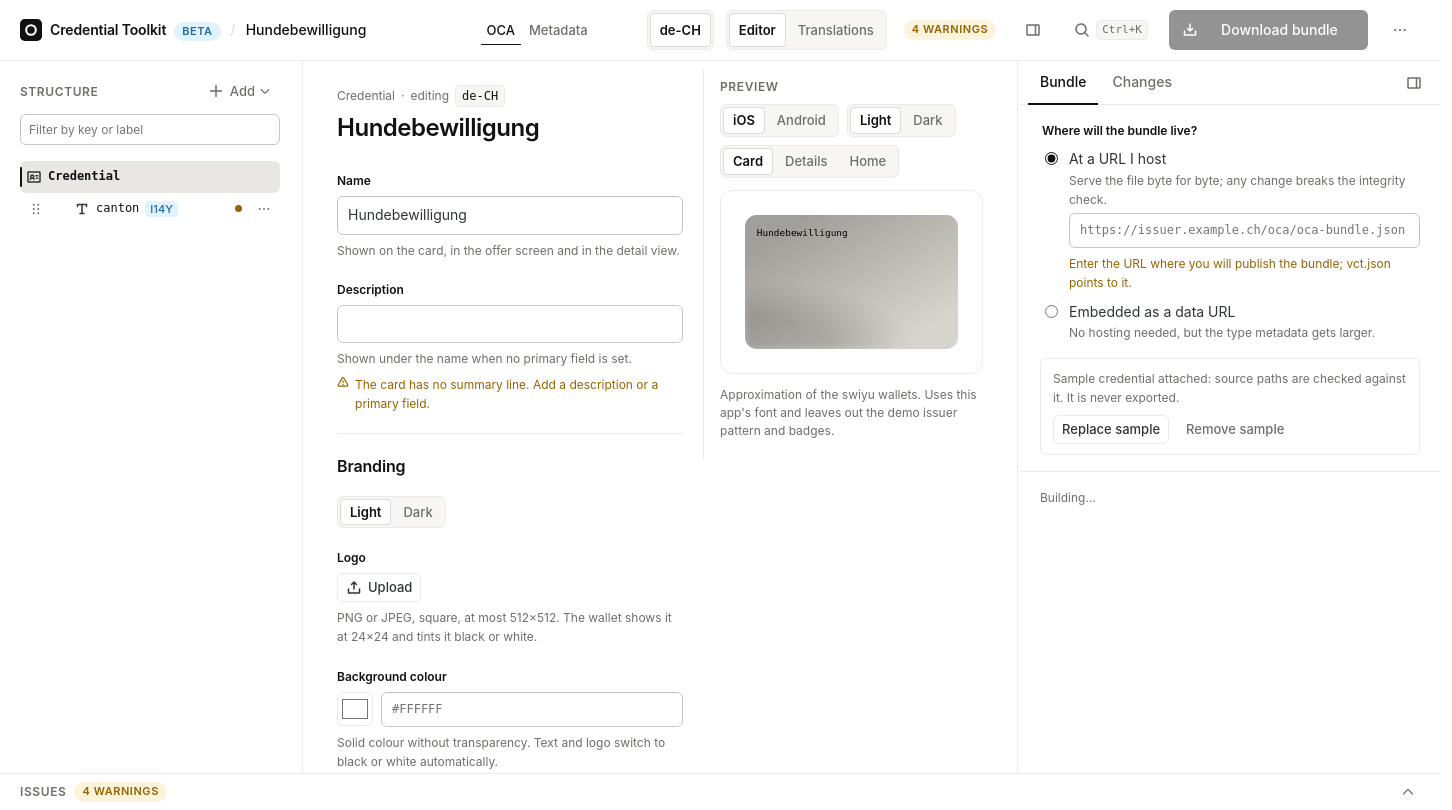
Scenario: in the app › lists Save and Open after a separator, before New project, with their keys
Step 1. Click the button named "More actions" → (1400, 30), box [1380,10,1420,50]
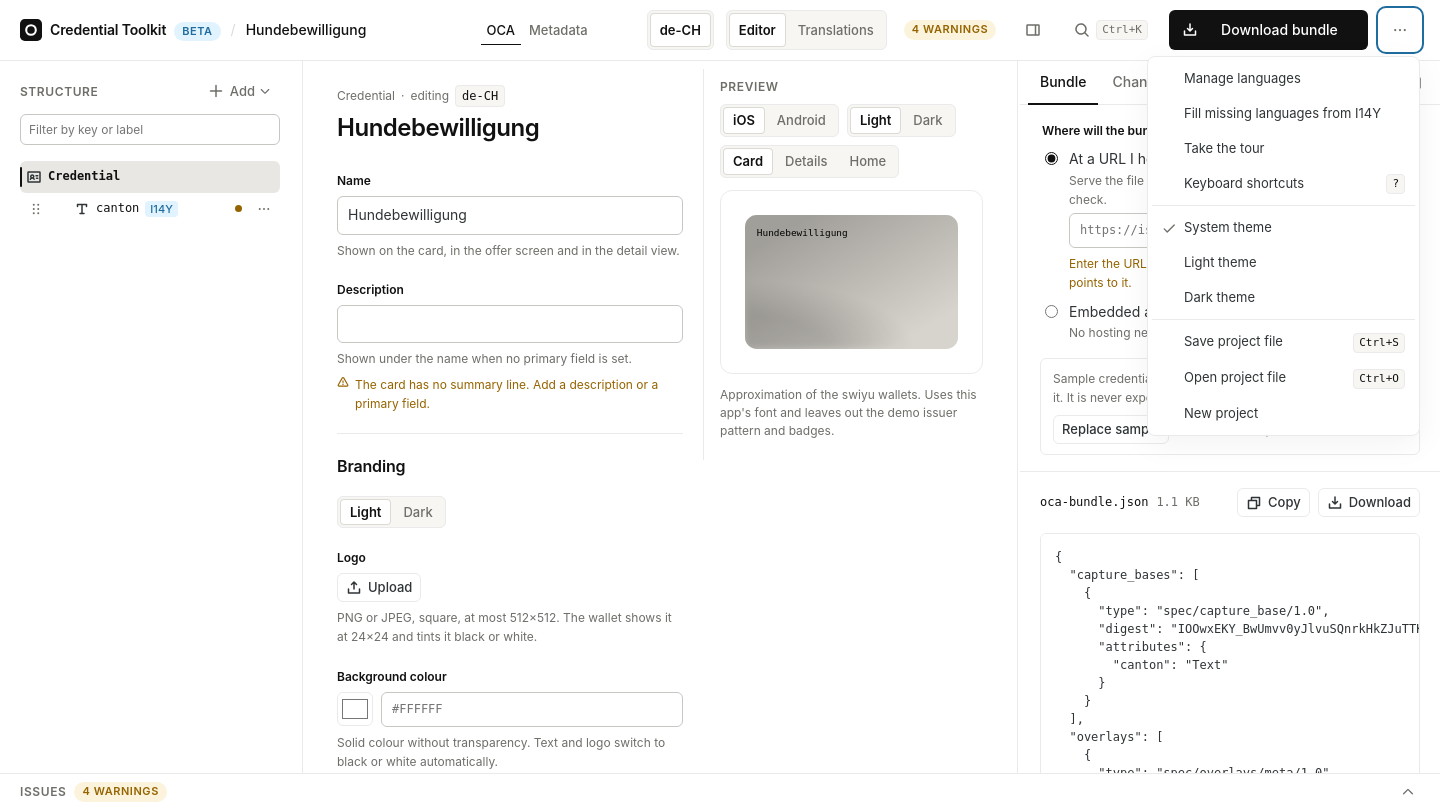
Step 2. Click the menu item "Save project file Ctrl+S" → (1284, 342), box [1152,324,1415,360]
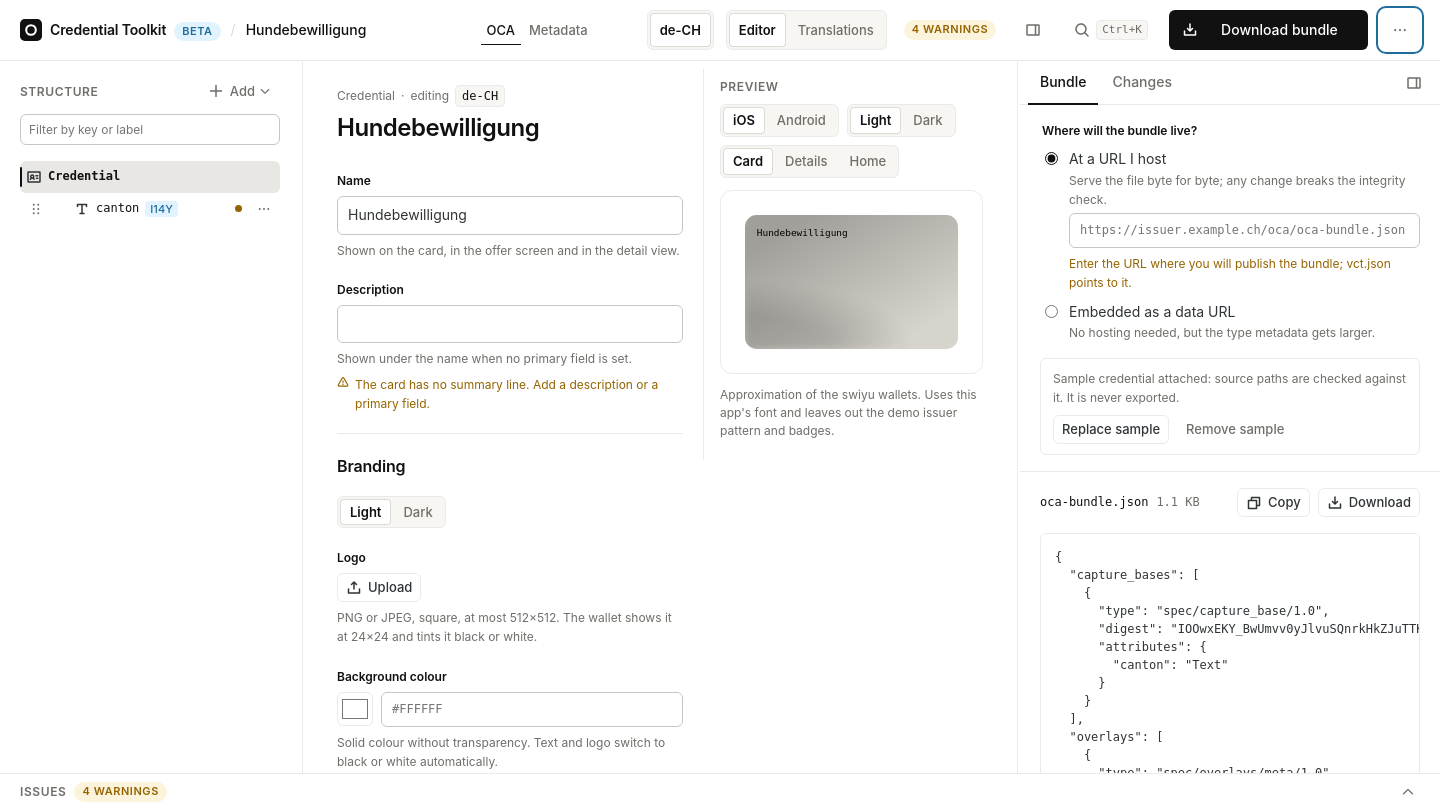
Step 3. Click the button named "More actions" → (1400, 30), box [1380,10,1420,50]
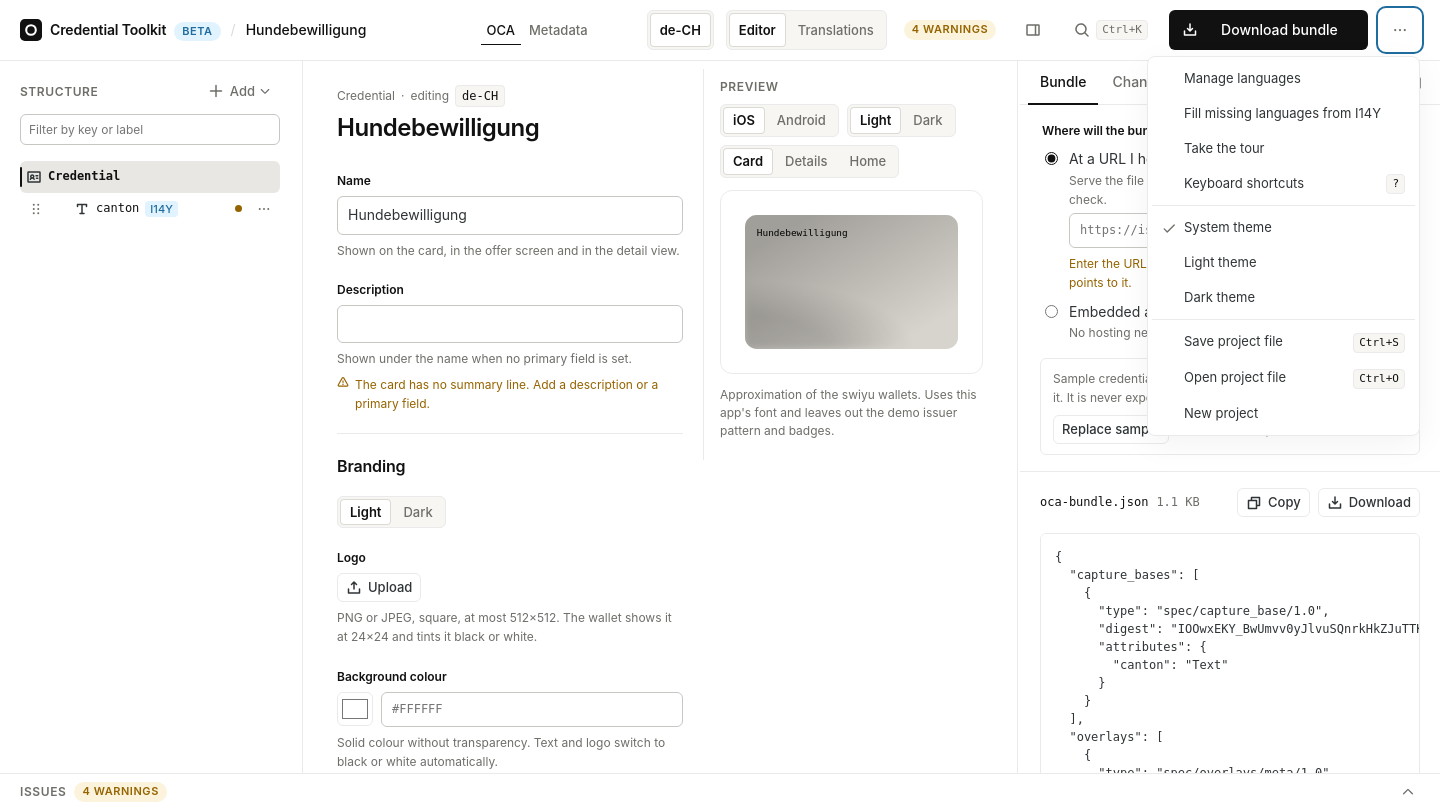
Step 4. Click the menu item "Open project file Ctrl+O" → (1284, 378), box [1152,360,1415,396]
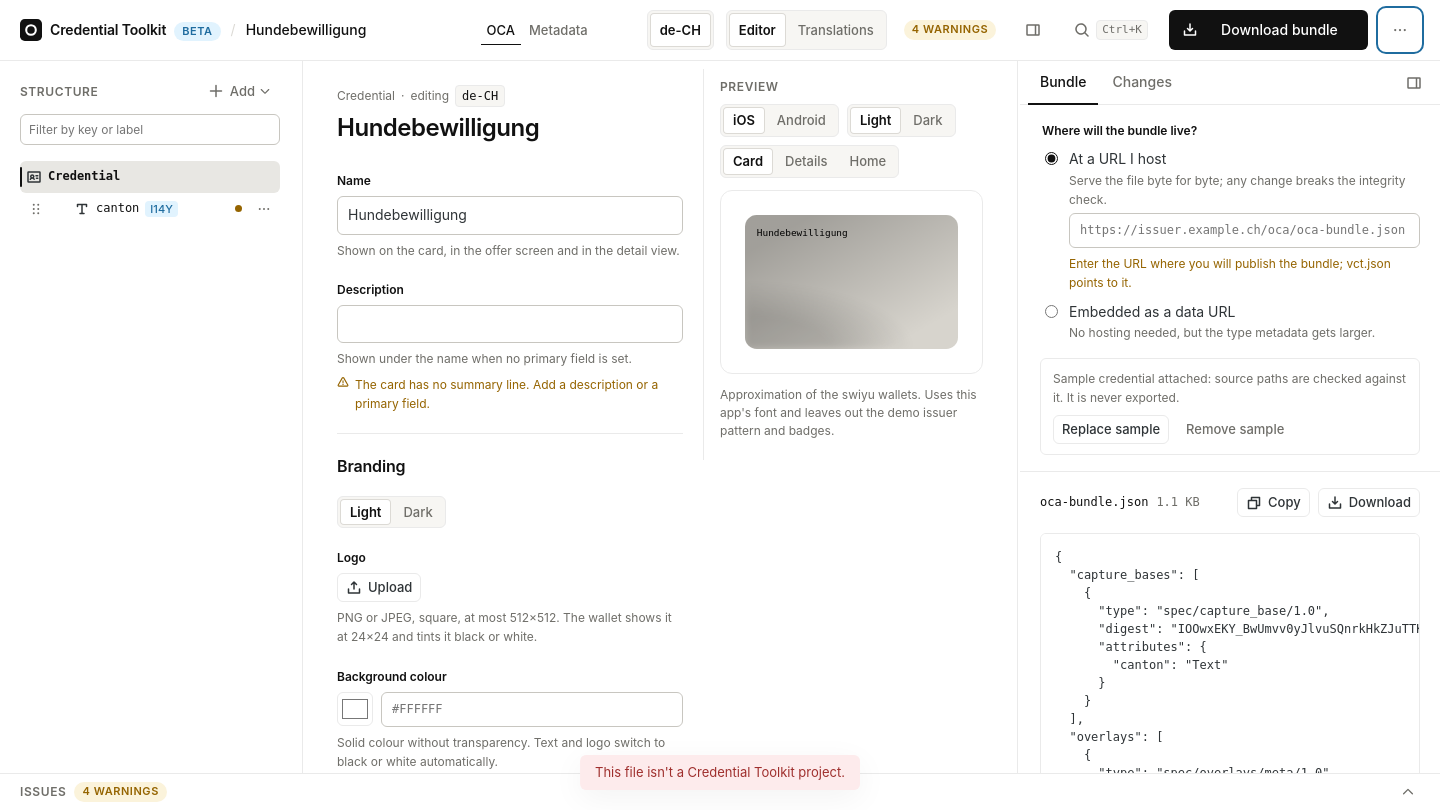
Expected: the element with class "toast--error" reads "This file isn't a Credential Toolkit project.", [595,764,845,780]
